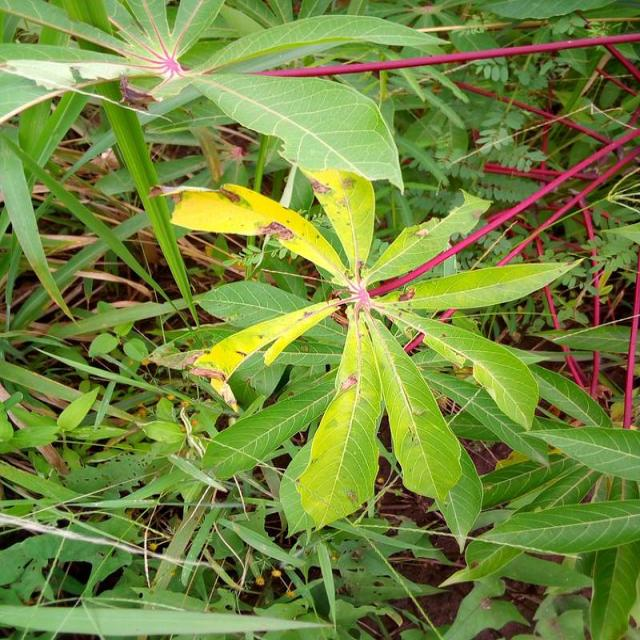cassava leaf: (168, 161, 584, 544), (188, 69, 405, 194)
